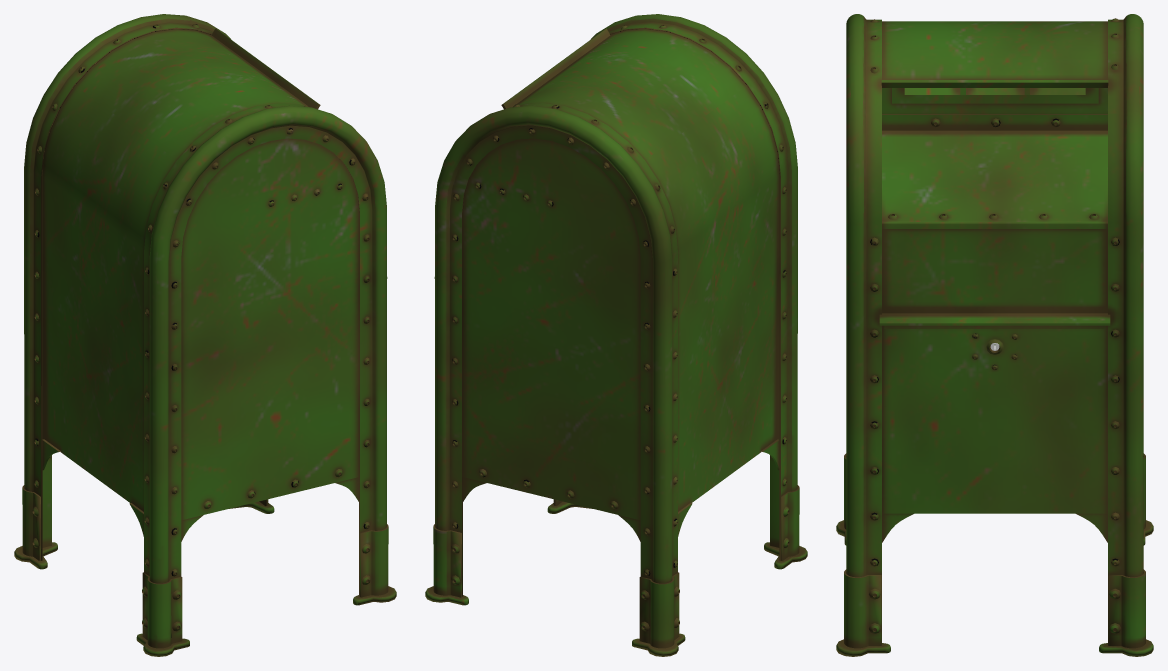
The model's file is mailbox1.fbx.
3 views of the same model, side by side, from view 1: azimuth 30°, elevation 25°; view 2: azimuth 150°, elevation 25°; view 3: azimuth 270°, elevation 25° (orthographic). The views are drawn at different scales.
Parts seen in each view (by area): view 1: Mailbox; view 2: Mailbox; view 3: Mailbox.
Part boxes in pixels (bbox=[...]): Mailbox: bbox=[14, 14, 396, 656]; Mailbox: bbox=[425, 14, 807, 656]; Mailbox: bbox=[836, 14, 1153, 656].
Bounding box in the file's own units: 64.98 × 125 × 64.11.
